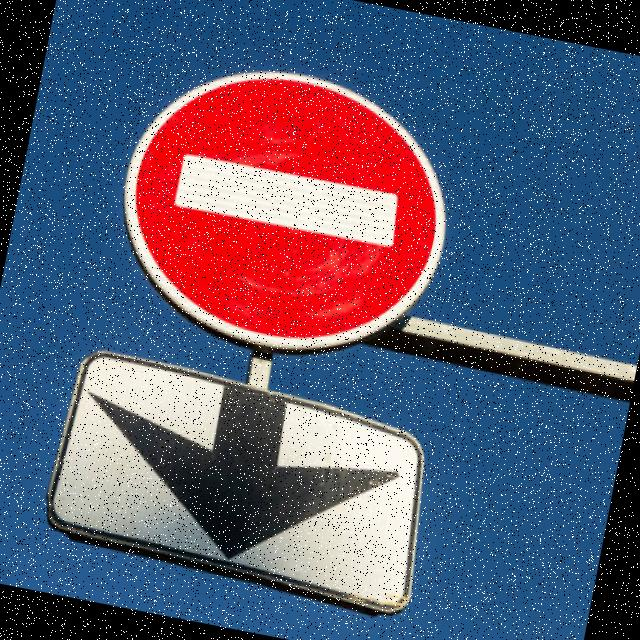do_not_enter: (74, 29, 483, 396)
